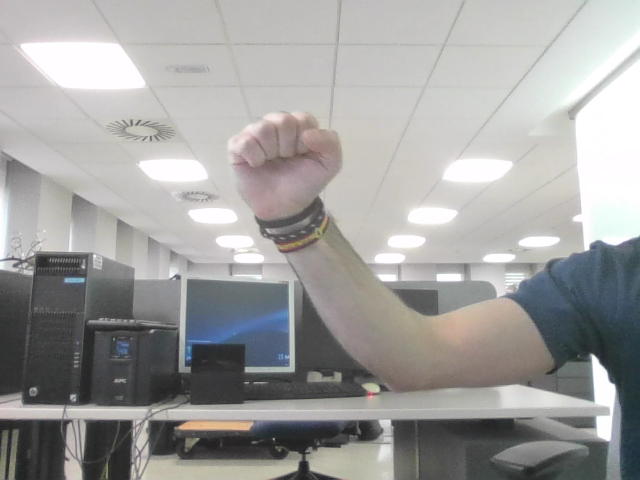Puño: (242, 119, 328, 191)
